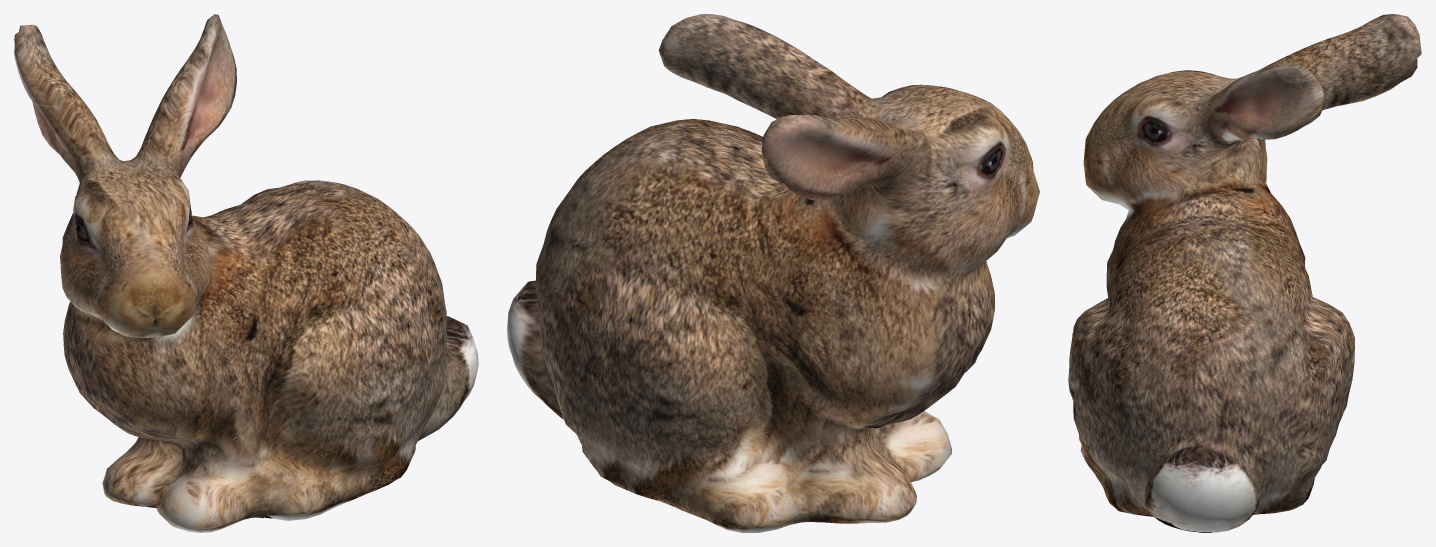
3 renders of one model, left to right at view 1: azimuth 30°, elevation 25°; view 2: azimuth 150°, elevation 25°; view 3: azimuth 270°, elevation 25°, orthographic. The views are drawn at different scales.
Visible parts, largest first — view 1: default-retopo 3; view 2: default-retopo 3; view 3: default-retopo 3.
Boxes of the visible parts, x1=… form: default-retopo 3: x1=14, y1=14, x2=478, y2=532; default-retopo 3: x1=507, y1=14, x2=1039, y2=532; default-retopo 3: x1=1068, y1=14, x2=1421, y2=532.
Size of the model in its own units: 1698 by 1679 by 1317.
Materials: 1 (1 with a texture image).
